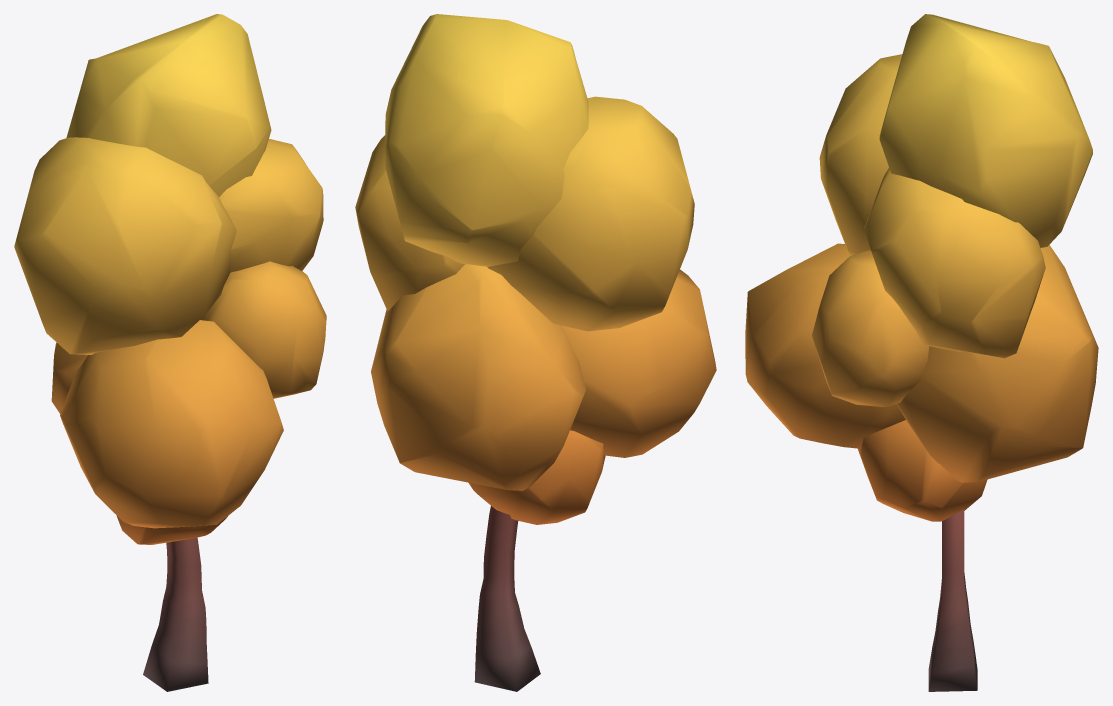
3 views of the same model, side by side, from view 1: azimuth 30°, elevation 25°; view 2: azimuth 150°, elevation 25°; view 3: azimuth 270°, elevation 25° (orthographic). The views are drawn at different scales.
Parts seen in each view (by area): view 1: Vert.029-col; view 2: Vert.029-col; view 3: Vert.029-col.
Part boxes in pixels (x1,y1,x2,y2): Vert.029-col: (14,14,326,691); Vert.029-col: (355,14,716,691); Vert.029-col: (745,14,1098,691).
Bounding box in the file's own units: 2.79 × 5.57 × 2.69.
1 material, 1 textured.
